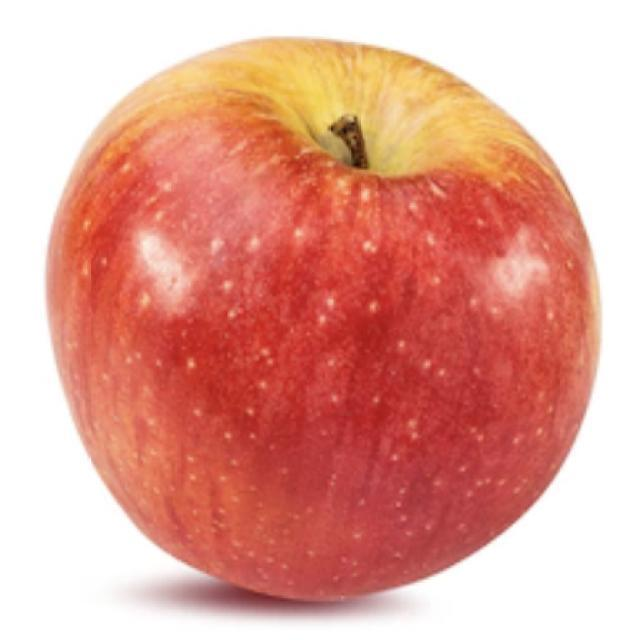Fresh Apple: (84, 37, 588, 580)
